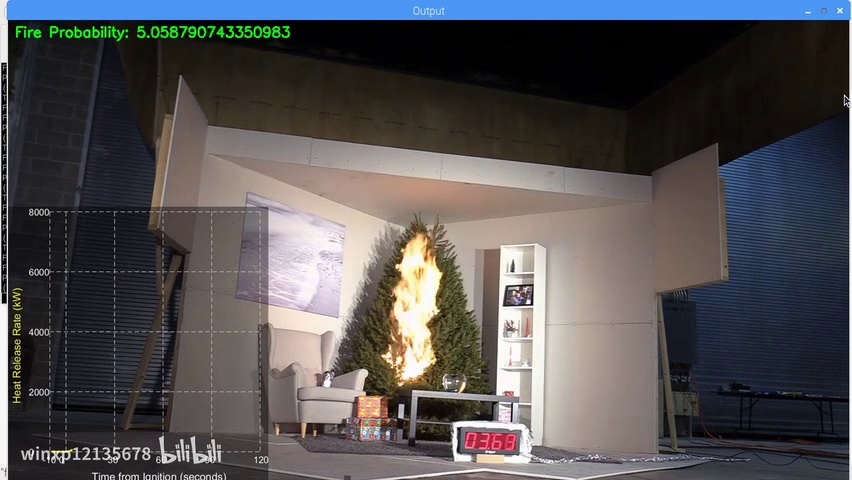fire: (379, 226, 440, 392)
